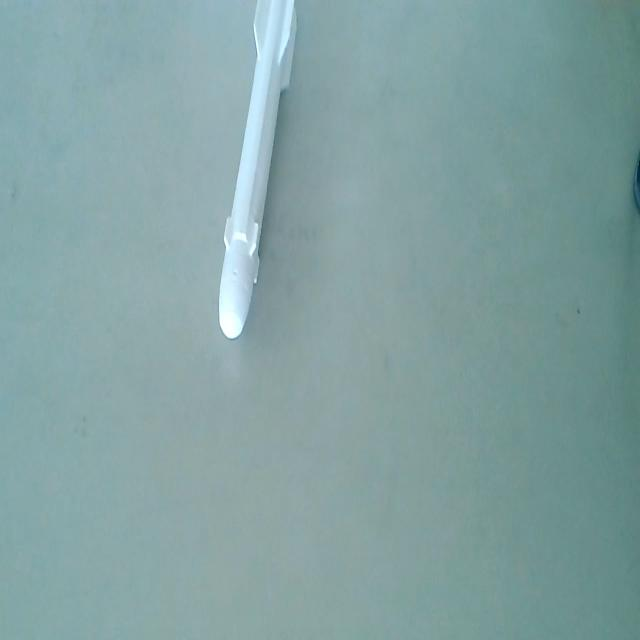Rocket: (213, 0, 299, 338)
